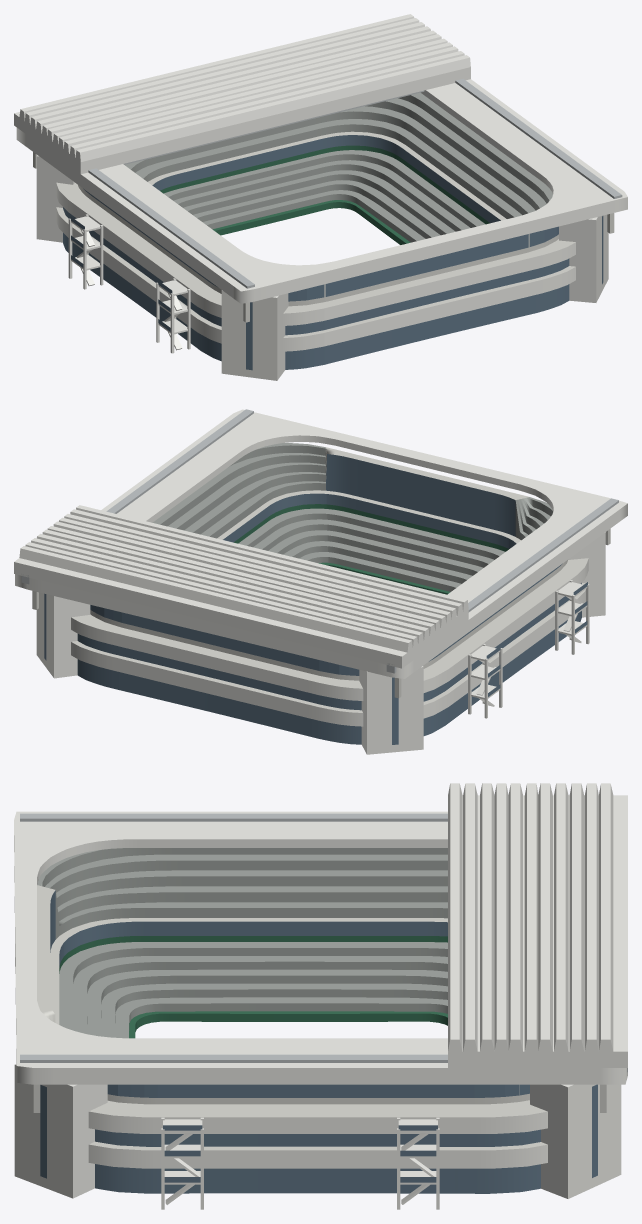
File: paris-court-philippe-chatrier.detail.glb
3 views of the same model, one above another, from view 1: azimuth 30°, elevation 25°; view 2: azimuth 150°, elevation 25°; view 3: azimuth 270°, elevation 25° (orthographic). The views are drawn at different scales.
Parts seen in each view (by area): view 1: Court Philippe-Chatrier; view 2: Court Philippe-Chatrier; view 3: Court Philippe-Chatrier.
Part boxes in pixels (box(x1,y1,x2,y2)): Court Philippe-Chatrier: box(14, 14, 627, 380); Court Philippe-Chatrier: box(14, 409, 627, 754); Court Philippe-Chatrier: box(14, 783, 627, 1209).
Size of the model in its own units: 117 by 31.45 by 109.
